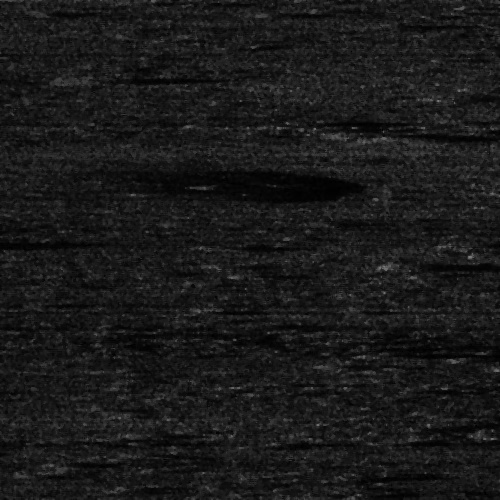object: (326, 130, 431, 141), (402, 238, 500, 247), (358, 260, 411, 267), (39, 75, 112, 80)
shadow: (379, 130, 462, 141), (0, 236, 98, 245), (385, 260, 500, 267), (75, 75, 192, 80), (454, 238, 500, 247)
